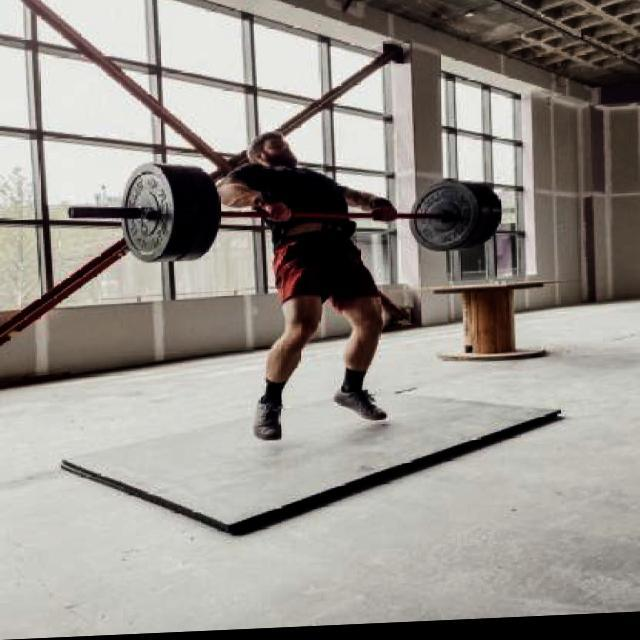barbell: (64, 155, 183, 273)
